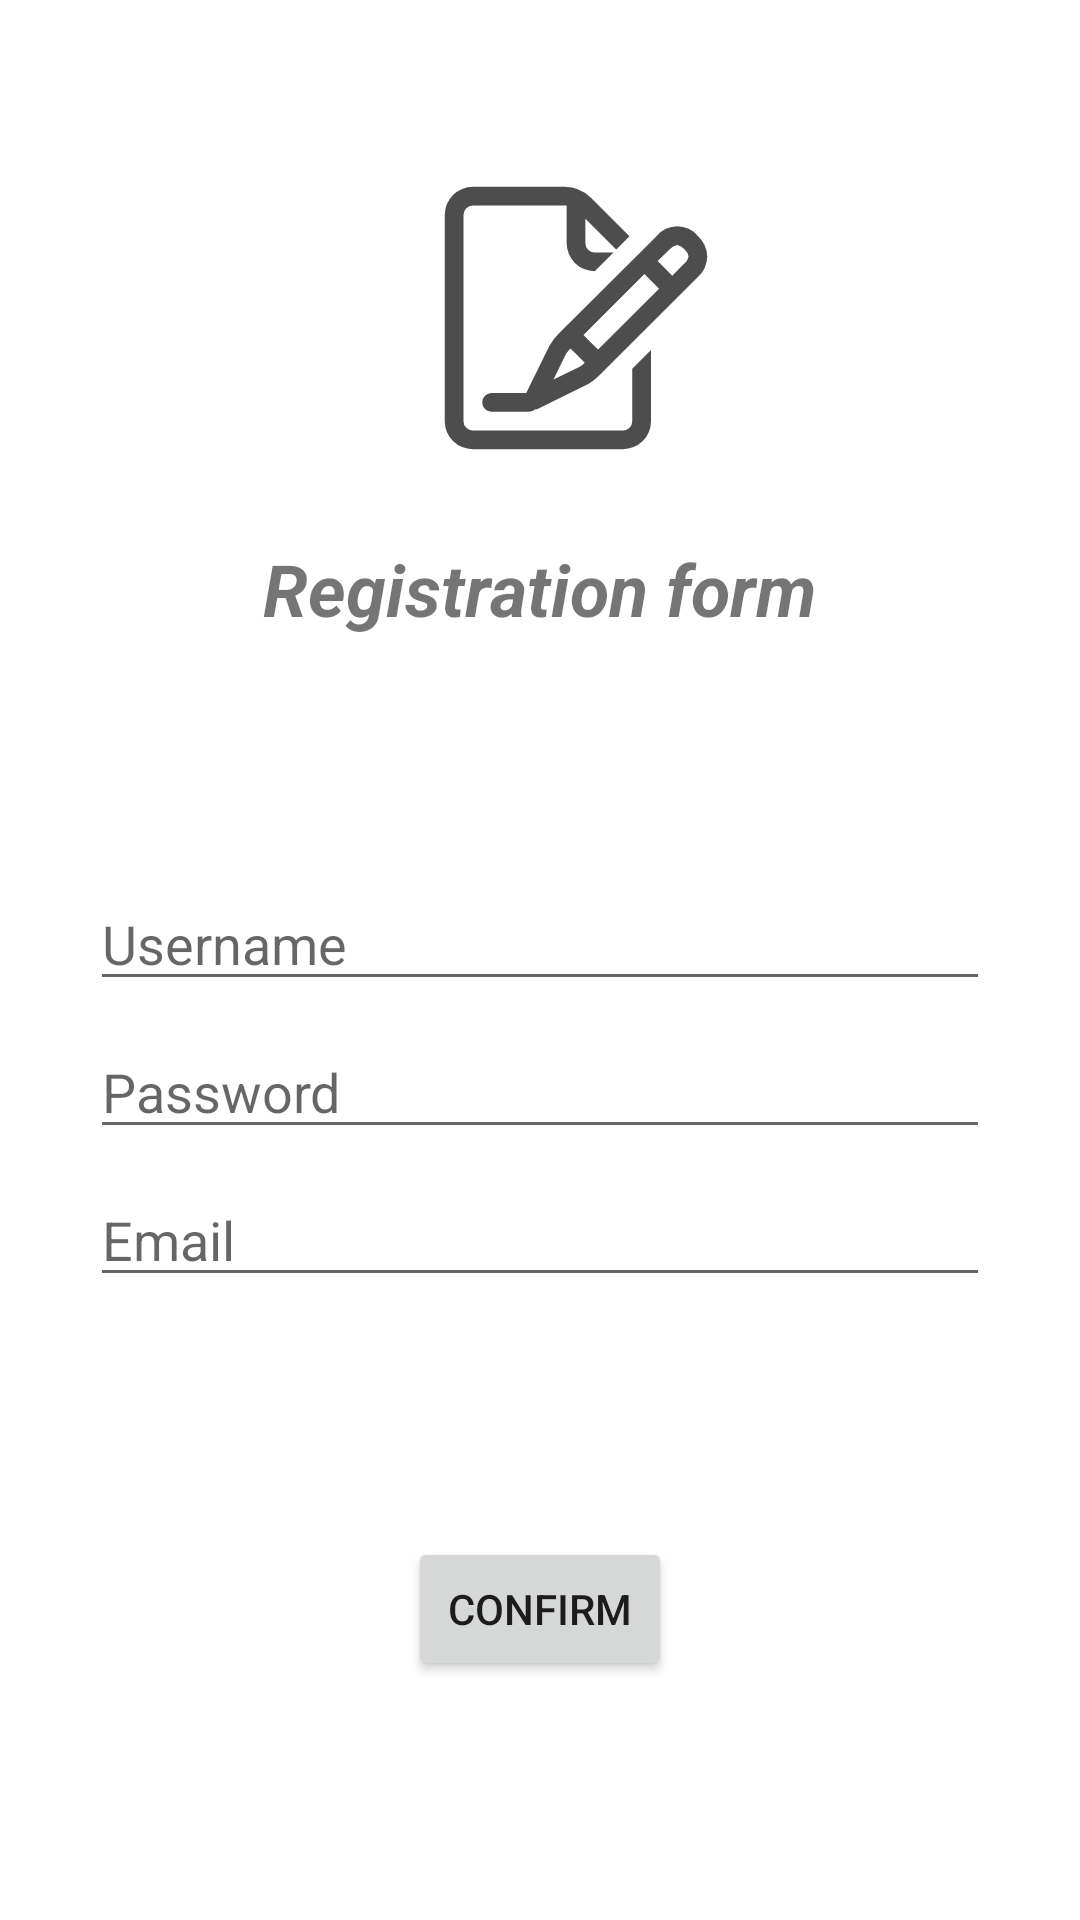

Locate icon controls on the screen. Image size 1080px×1920px, boxes as (x1, y1, x2, y2).
pen signature: (444, 186, 708, 450)
